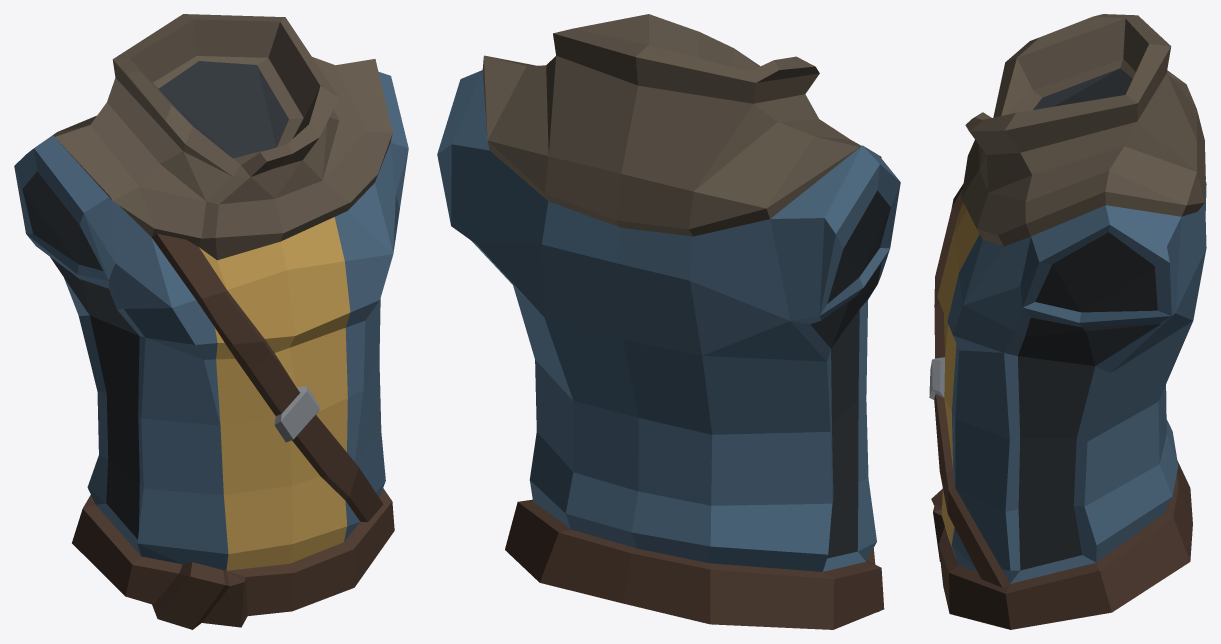
Rendered from Chr_Torso_Male_06_Static.fbx.
3 views of the same model, side by side, from view 1: azimuth 30°, elevation 25°; view 2: azimuth 150°, elevation 25°; view 3: azimuth 270°, elevation 25° (orthographic). The views are drawn at different scales.
Visible parts, largest first — view 1: Chr_Torso_Male_06_Static; view 2: Chr_Torso_Male_06_Static; view 3: Chr_Torso_Male_06_Static.
Part boxes in pixels (box(x1,y1,x2,y2)): Chr_Torso_Male_06_Static: box(14, 14, 408, 629); Chr_Torso_Male_06_Static: box(437, 14, 900, 629); Chr_Torso_Male_06_Static: box(929, 14, 1206, 629).
Bounding box in the file's own units: 0.502 × 0.7029 × 0.3231.
